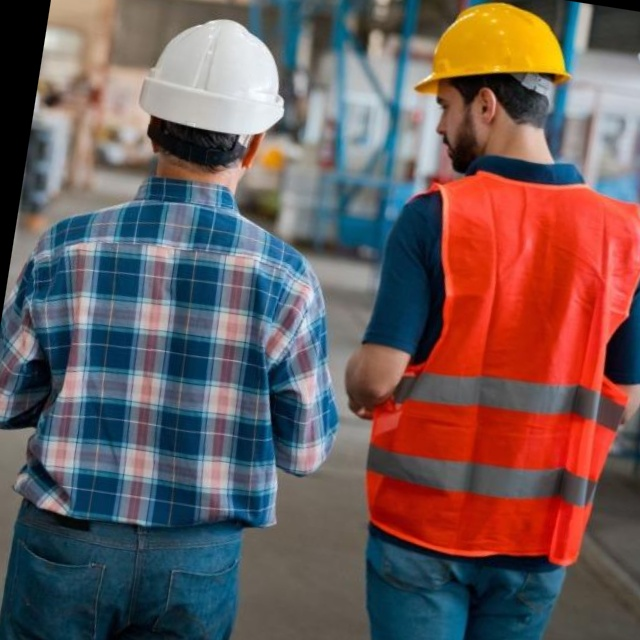Con_Casco: (121, 5, 297, 203), (403, 0, 577, 174)
Con_Chaleco: (349, 152, 640, 574)
Sin_Chaleco: (0, 180, 321, 547)
